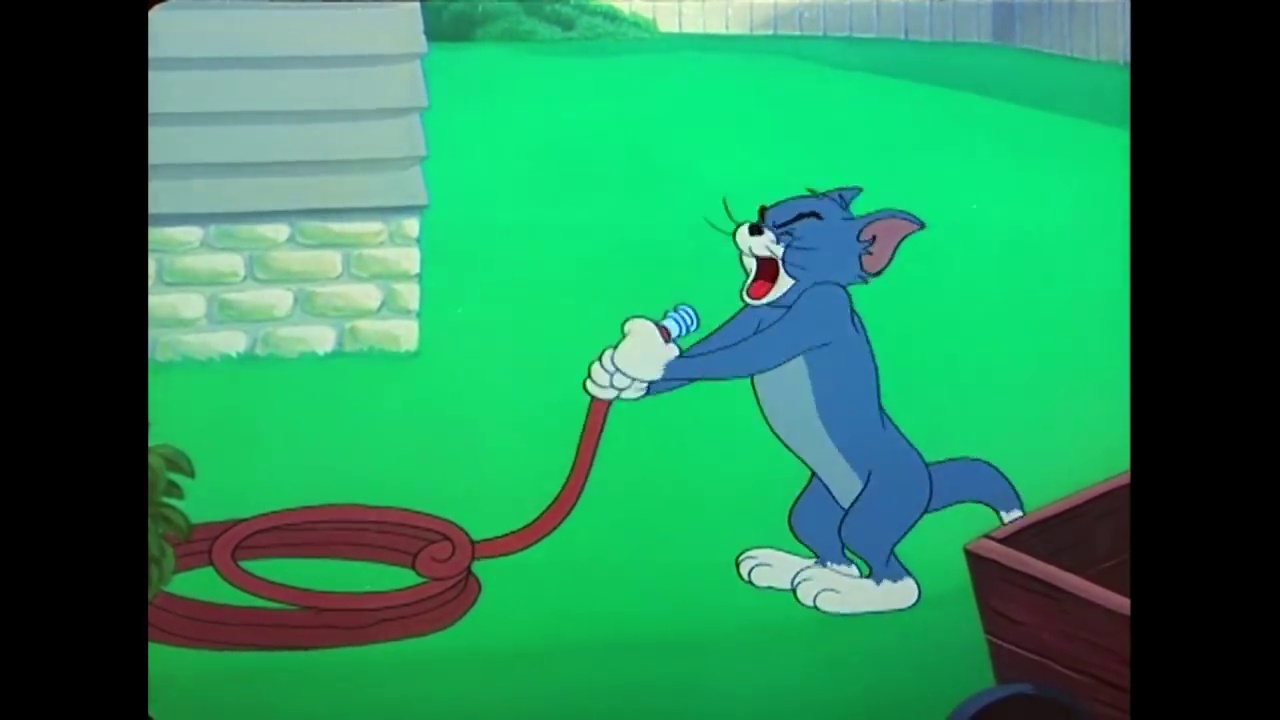tom: (718, 175, 932, 312)
